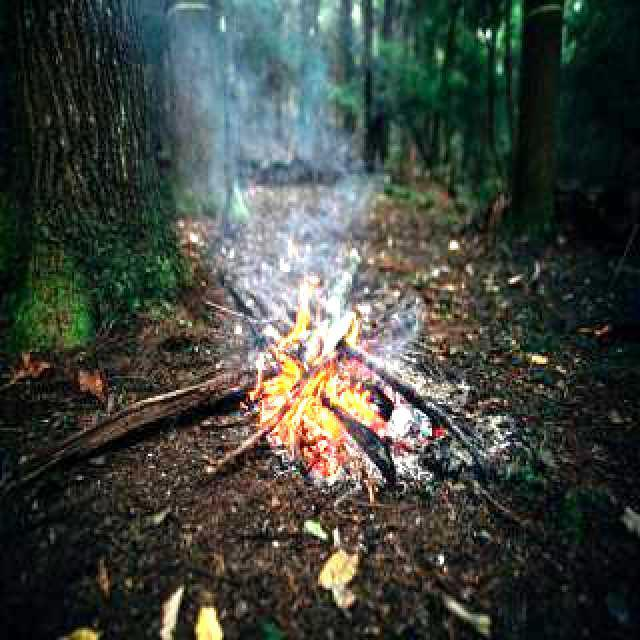Fire: (261, 305, 369, 463)
Smoke: (142, 3, 382, 290)
